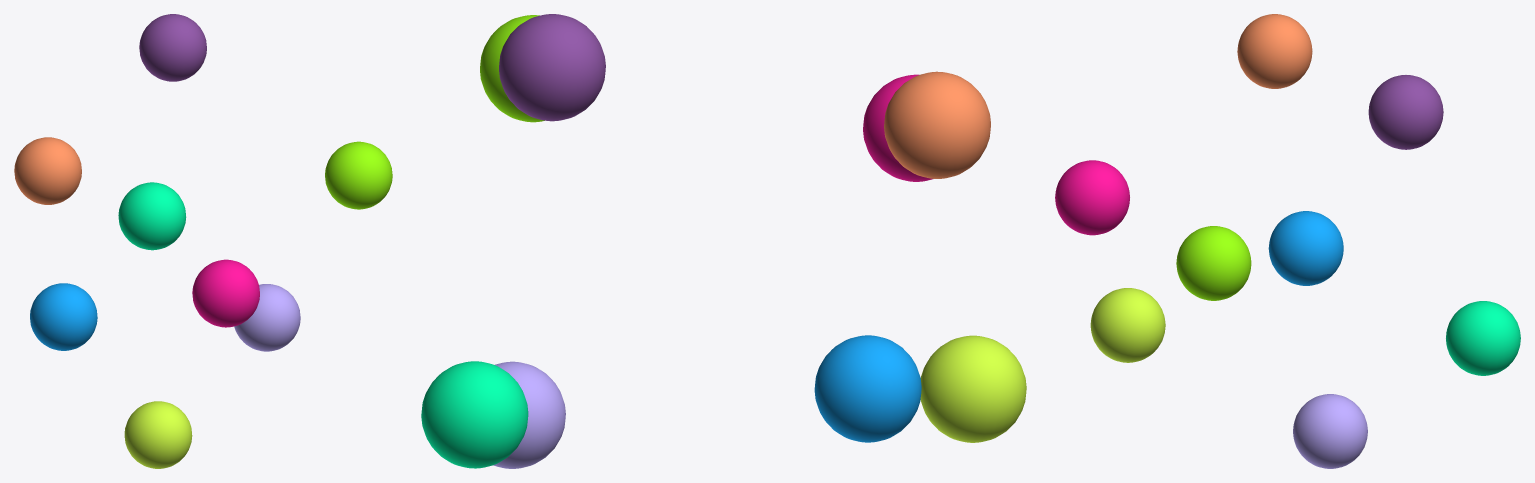
The model's file is InitialScene.glb.
The picture shows the model from 3 angles, left to right: view 1: azimuth 30°, elevation 25°; view 2: azimuth 150°, elevation 25°; view 3: azimuth 270°, elevation 25°; orthographic projection. The views are drawn at different scales.
Parts seen in each view (by area): view 1: Sphere.004, Sphere.006, Sphere.003, Sphere.002, Sphere.001, Sphere.007, Sphere, Sphere.005; view 2: Sphere.002, Sphere.001, Sphere.006, Sphere.004, Sphere, Sphere.005, Sphere.007, Sphere.003; view 3: Sphere.005, Sphere.001, Sphere.007, Sphere, Sphere.002, Sphere.006, Sphere.003, Sphere.004.
Part boxes in pixels (x1=…): Sphere.004: x1=14, y1=137, x2=81, y2=204; Sphere.006: x1=139, y1=14, x2=206, y2=81; Sphere.003: x1=325, y1=141, x2=392, y2=209; Sphere.002: x1=118, y1=182, x2=186, y2=250; Sphere.001: x1=30, y1=283, x2=97, y2=350; Sphere.007: x1=192, y1=259, x2=259, y2=327; Sphere: x1=124, y1=401, x2=192, y2=468; Sphere.005: x1=234, y1=284, x2=300, y2=351; Sphere.002: x1=421, y1=361, x2=528, y2=468; Sphere.001: x1=814, y1=335, x2=921, y2=442; Sphere.006: x1=499, y1=14, x2=605, y2=121; Sphere.004: x1=884, y1=71, x2=990, y2=178; Sphere: x1=920, y1=335, x2=1026, y2=442; Sphere.005: x1=493, y1=361, x2=565, y2=468; Sphere.007: x1=863, y1=74, x2=932, y2=181; Sphere.003: x1=480, y1=15, x2=544, y2=122; Sphere.005: x1=1293, y1=394, x2=1367, y2=468; Sphere.001: x1=1268, y1=211, x2=1343, y2=285; Sphere.007: x1=1055, y1=160, x2=1129, y2=235; Sphere: x1=1090, y1=288, x2=1165, y2=362; Sphere.002: x1=1446, y1=301, x2=1520, y2=375; Sphere.006: x1=1368, y1=75, x2=1443, y2=149; Sphere.003: x1=1176, y1=226, x2=1251, y2=300; Sphere.004: x1=1237, y1=14, x2=1312, y2=88.
Bounding box in the file's own units: 7.35 × 6.63 × 7.84.
